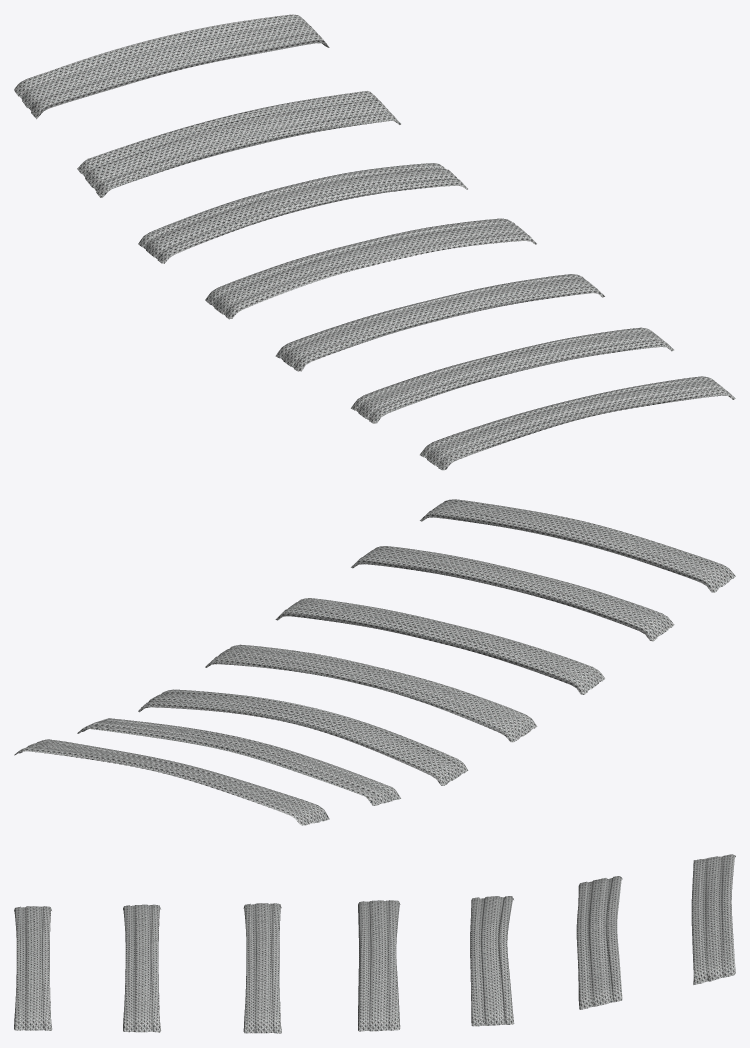
Rendered from 174_Ribs-3a33f64b.glb.
The picture shows the model from 3 angles, top to bottom: view 1: azimuth 30°, elevation 25°; view 2: azimuth 150°, elevation 25°; view 3: azimuth 270°, elevation 25°; orthographic projection. The views are drawn at different scales.
Parts seen in each view (by area): view 1: Ribs; view 2: Ribs; view 3: Ribs.
Part boxes in pixels (x1=…): Ribs: x1=14, y1=14, x2=735, y2=470; Ribs: x1=14, y1=499, x2=735, y2=825; Ribs: x1=14, y1=854, x2=735, y2=1033.
Bounding box in the file's own units: 0.1481 × 0.0389 × 0.358.
7 materials, 7 textured.
